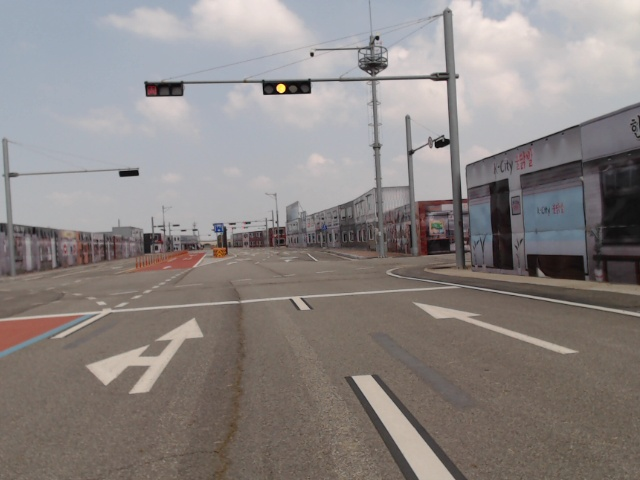orange_4: (262, 79, 312, 95)
